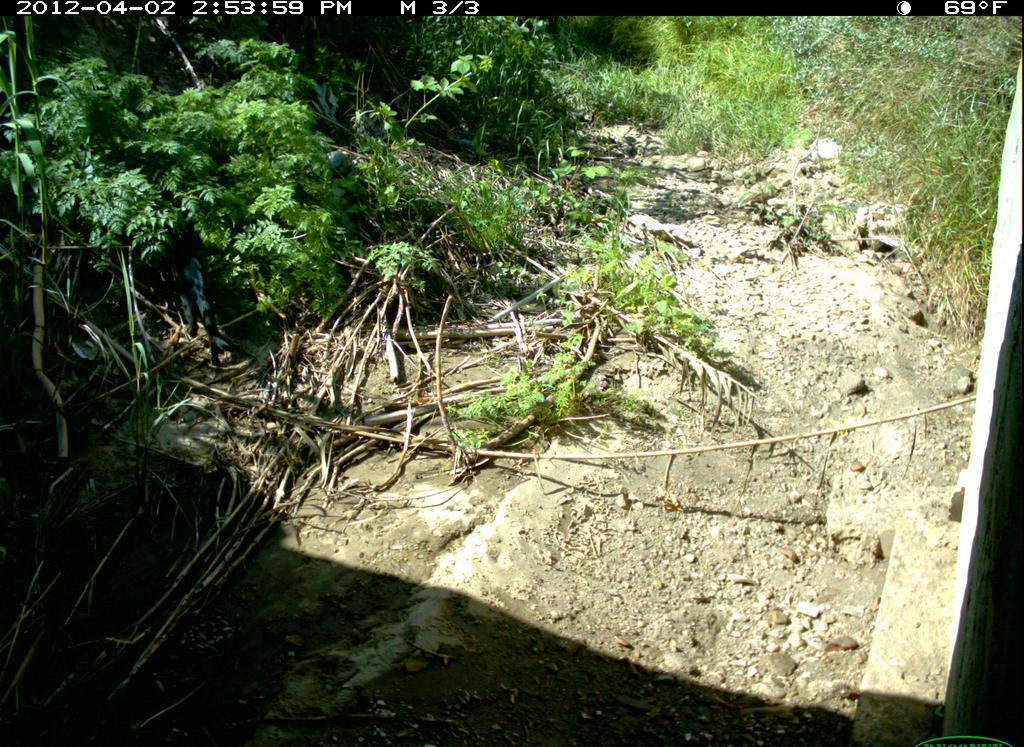cat: (149, 210, 262, 381)
